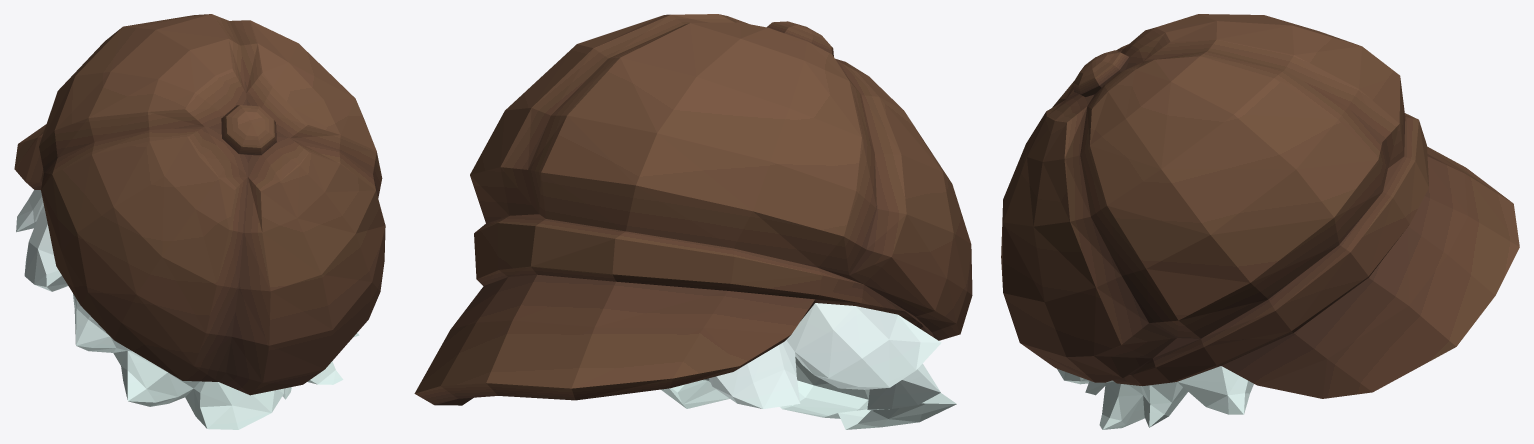
Rendered from CharSkyKid_Hair_AP17PaperboyCap.glb.
3 renders of one model, left to right at view 1: azimuth 30°, elevation 25°; view 2: azimuth 150°, elevation 25°; view 3: azimuth 270°, elevation 25°, orthographic. The views are drawn at different scales.
Visible parts, largest first — view 1: CharSkyKid_Hair_AP17PaperboyCap; view 2: CharSkyKid_Hair_AP17PaperboyCap; view 3: CharSkyKid_Hair_AP17PaperboyCap.
Boxes of the visible parts, x1,y1,x2,y2 form: CharSkyKid_Hair_AP17PaperboyCap: (14, 14, 385, 429); CharSkyKid_Hair_AP17PaperboyCap: (414, 14, 972, 429); CharSkyKid_Hair_AP17PaperboyCap: (1001, 14, 1519, 429).
Size of the model in its own units: 3.14 by 3.02 by 3.92.
Materials: 1 (1 with a texture image).
